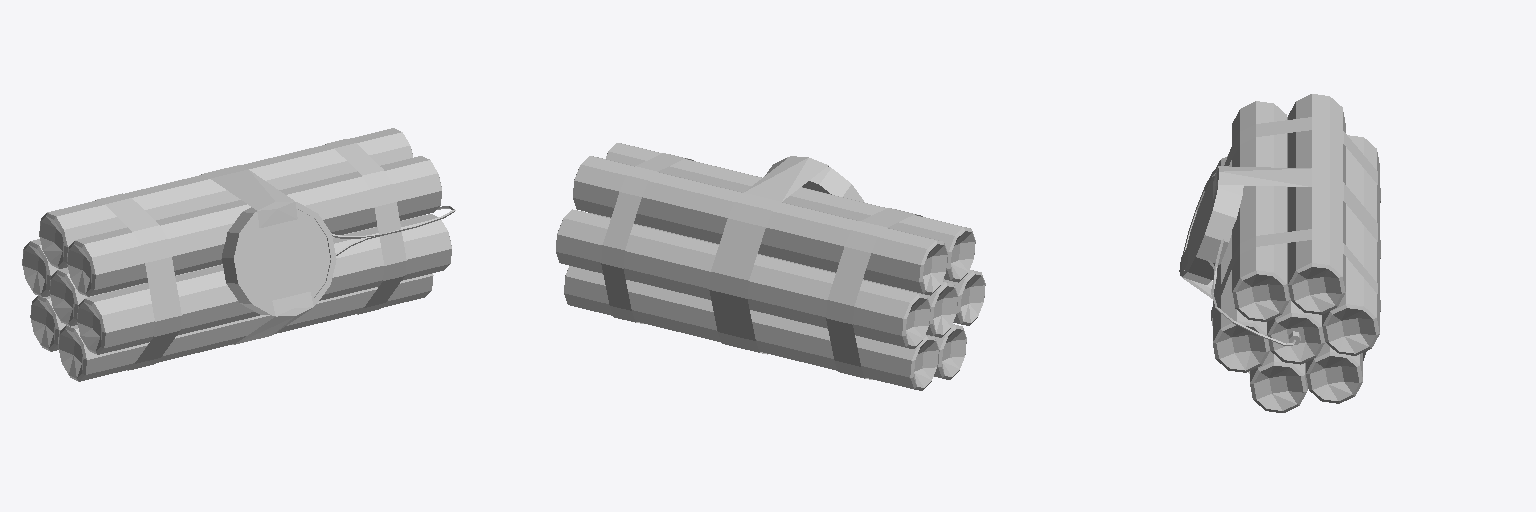
The model's file is bomb_540.obj.
3 views of the same model, side by side, from view 1: azimuth 30°, elevation 25°; view 2: azimuth 150°, elevation 25°; view 3: azimuth 270°, elevation 25° (orthographic).
Parts seen in each view (by area): view 1: Bomb; view 2: Bomb; view 3: Bomb.
Boxes of the visible parts, x1=… form: Bomb: x1=22, y1=128, x2=455, y2=381; Bomb: x1=556, y1=143, x2=985, y2=390; Bomb: x1=1179, y1=94, x2=1380, y2=412.
Bounding box in the file's own units: 3.13 × 1.27 × 1.47.